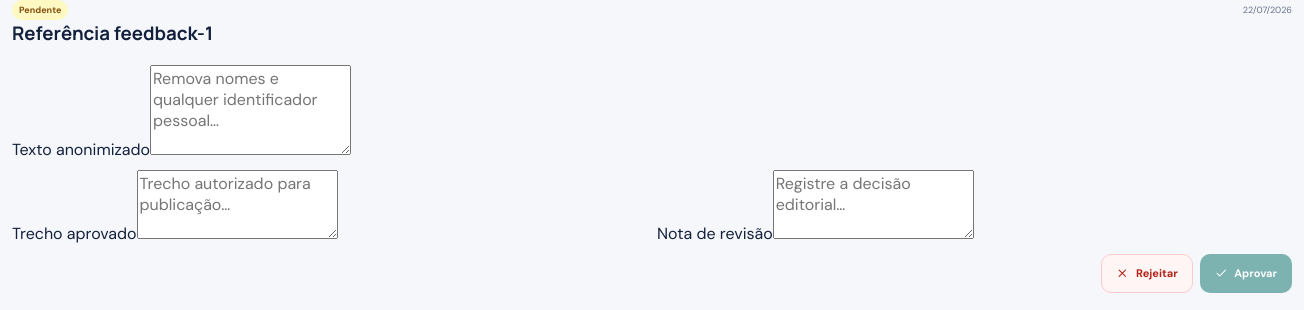
Test: feedback review › só habilita aprovação após texto anonimizado e trecho aprovado
The width and height of the screenshot is (1304, 310).
Expected: the button "Aprovar" is disabled, [1200,254,1292,293]
Type "Texto sem identificadores" into the text box labelled "Texto anonimizado". click: [250, 110]
box: [150,65,351,155]
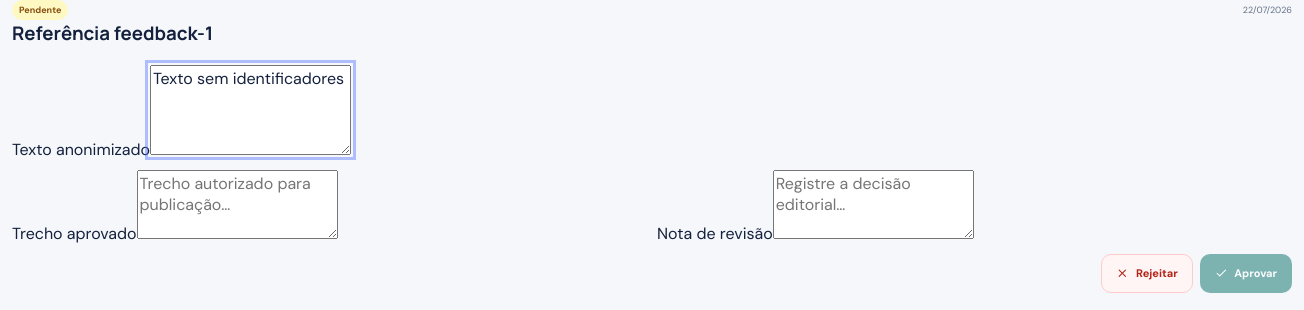
Expected: the button "Aprovar" is disabled, [1200,254,1292,293]
Type "Trecho público" into the text box labelled "Trecho aprovado". click: [237, 204]
box: [136,170,338,239]
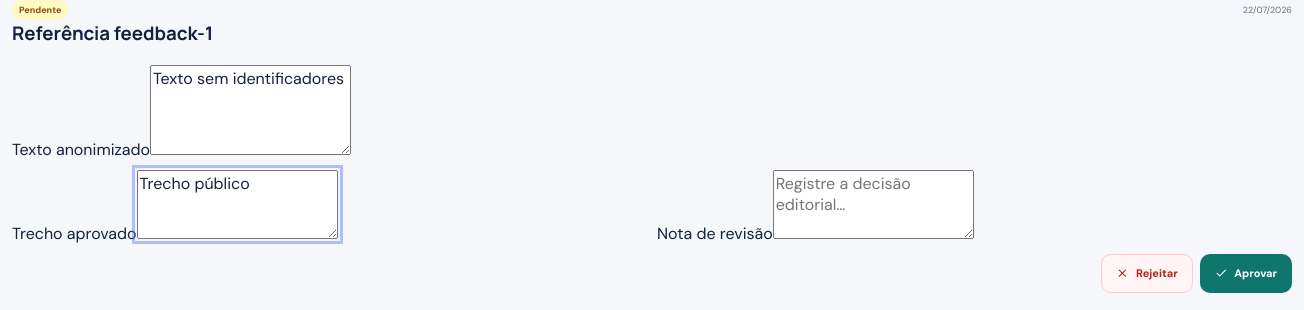
Expected: the button "Aprovar" is enabled, [1200,254,1292,293]
